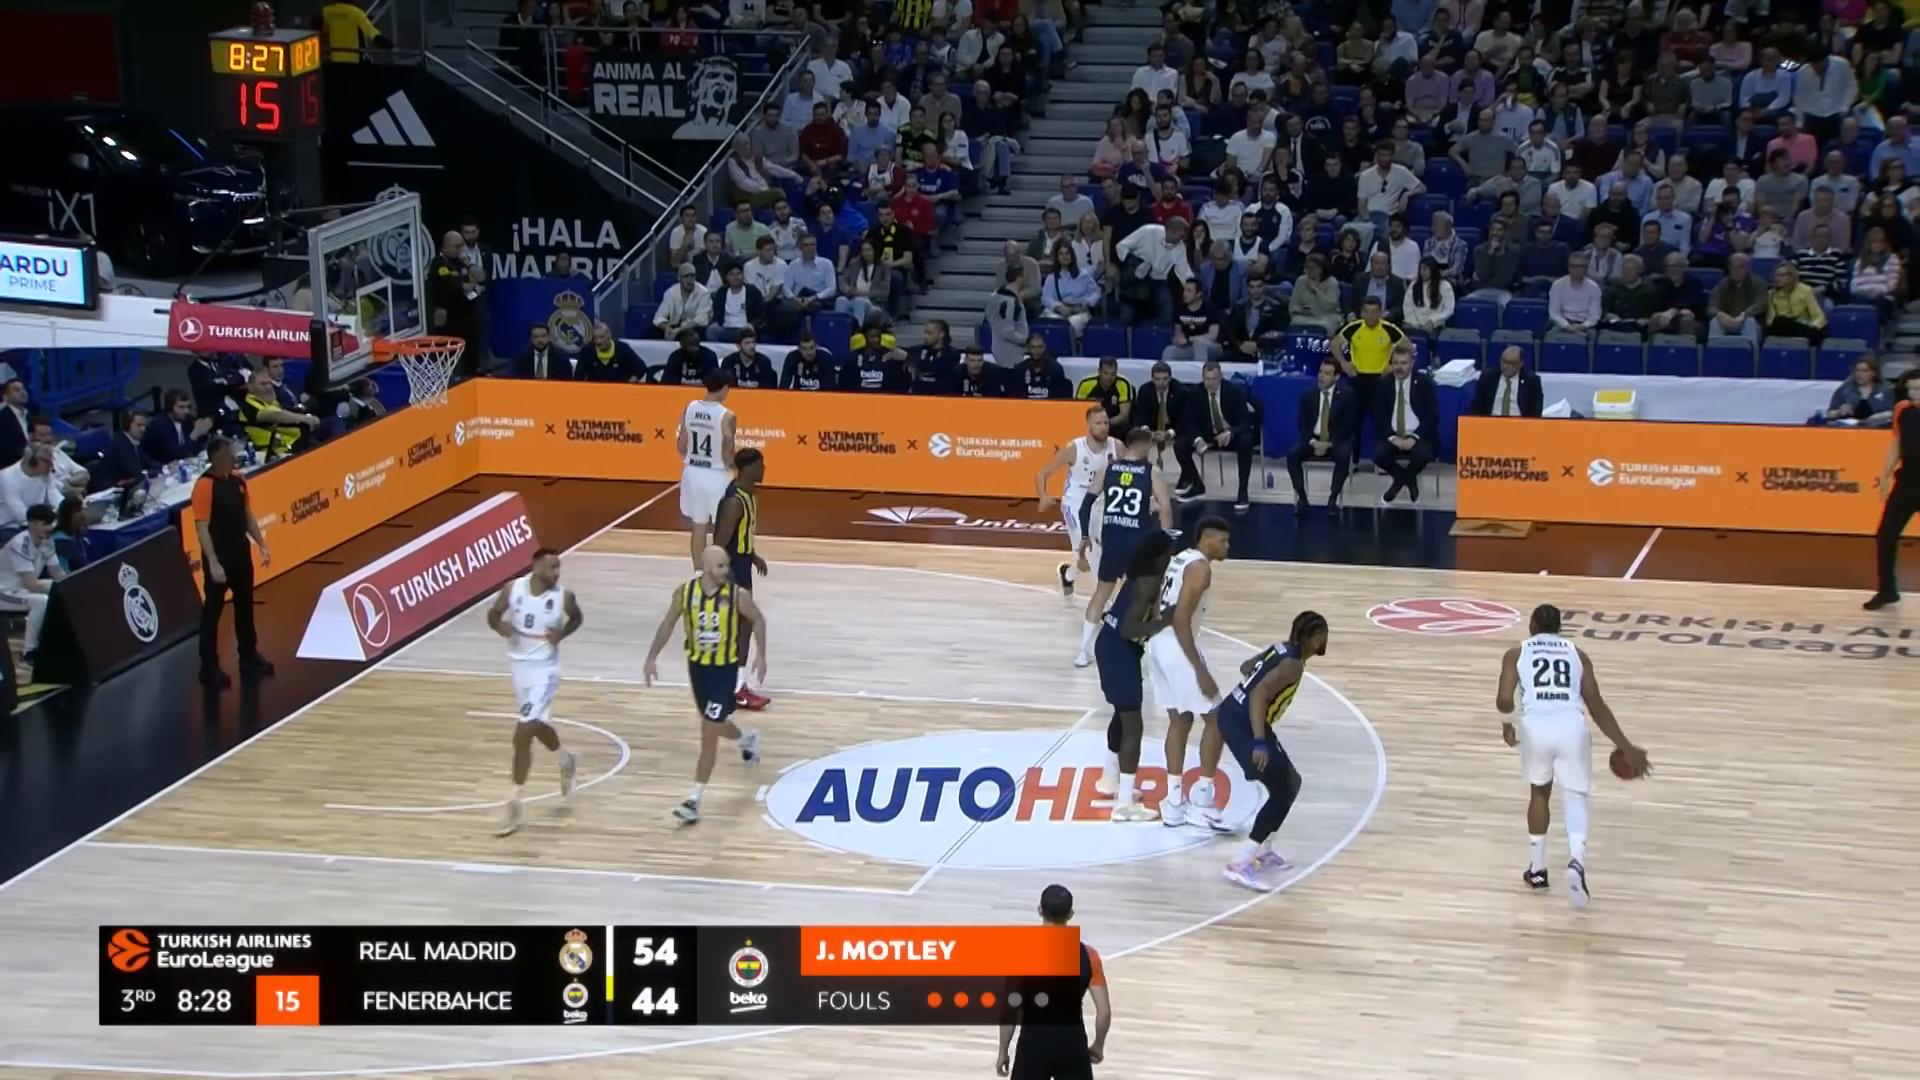ball: (1605, 742, 1658, 785)
net: (396, 334, 468, 411)
